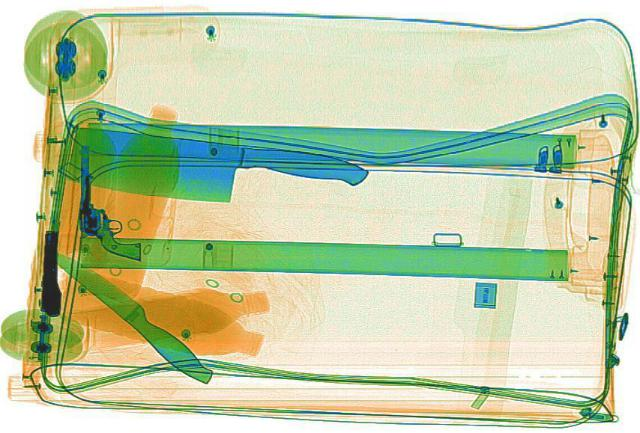Gun: (70, 144, 144, 261), (37, 232, 63, 315)
Knife: (56, 123, 370, 216), (35, 241, 227, 390)
